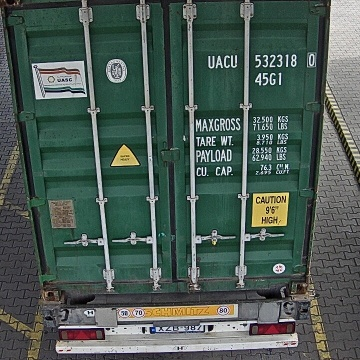serial_id: (208, 53, 316, 68)
